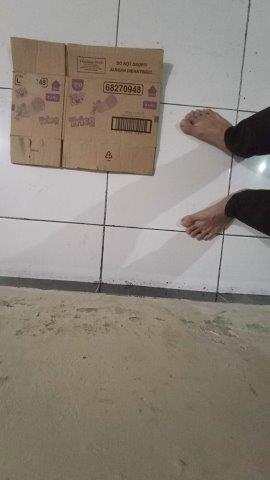kardus: (11, 38, 163, 174)
